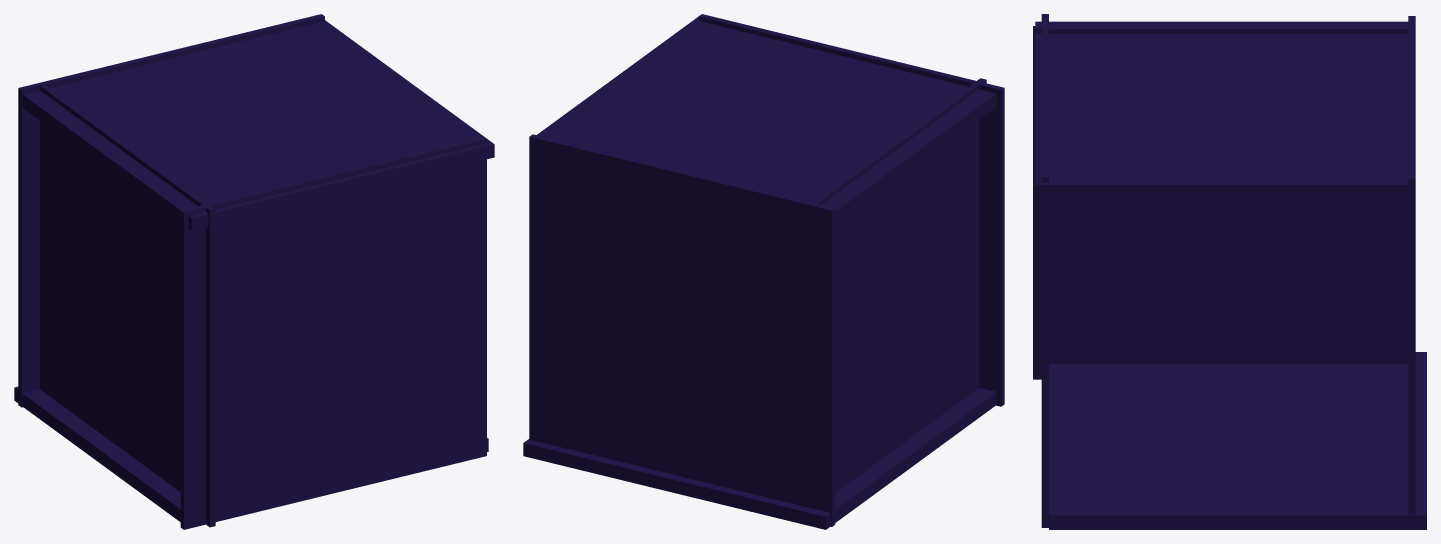
The model's file is room(outside).fbx.
3 views of the same model, side by side, from view 1: azimuth 30°, elevation 25°; view 2: azimuth 150°, elevation 25°; view 3: azimuth 270°, elevation 25° (orthographic). The views are drawn at different scales.
Visible parts, largest first — view 1: Cube.014, Cube.016, Cube.017, Cube.015, Cube.013; view 2: Cube.015, Cube.016, Cube.017, Cube.013, Cube.014; view 3: Cube.017, Cube.016, Cube.013, Cube.014, Cube.015.
Boxes of the visible parts, box(x1,y1,x2,y2) form: Cube.014: box(180, 136, 486, 529); Cube.016: box(22, 20, 494, 231); Cube.017: box(40, 84, 215, 527); Cube.015: box(18, 14, 324, 407); Cube.013: box(14, 386, 488, 521); Cube.015: box(529, 134, 835, 526); Cube.016: box(536, 16, 996, 224); Cube.017: box(811, 78, 986, 492); Cube.013: box(523, 388, 996, 529); Cube.014: box(698, 14, 1004, 406); Cube.017: box(1033, 26, 1408, 379); Cube.016: box(1035, 21, 1413, 199); Cube.013: box(1049, 352, 1426, 529); Cube.014: box(1041, 14, 1048, 527); Cube.015: box(1408, 16, 1415, 514).
Size of the model in its own units: 912 by 898 by 915.
